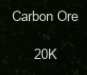Carbon: (11, 8, 80, 63)
